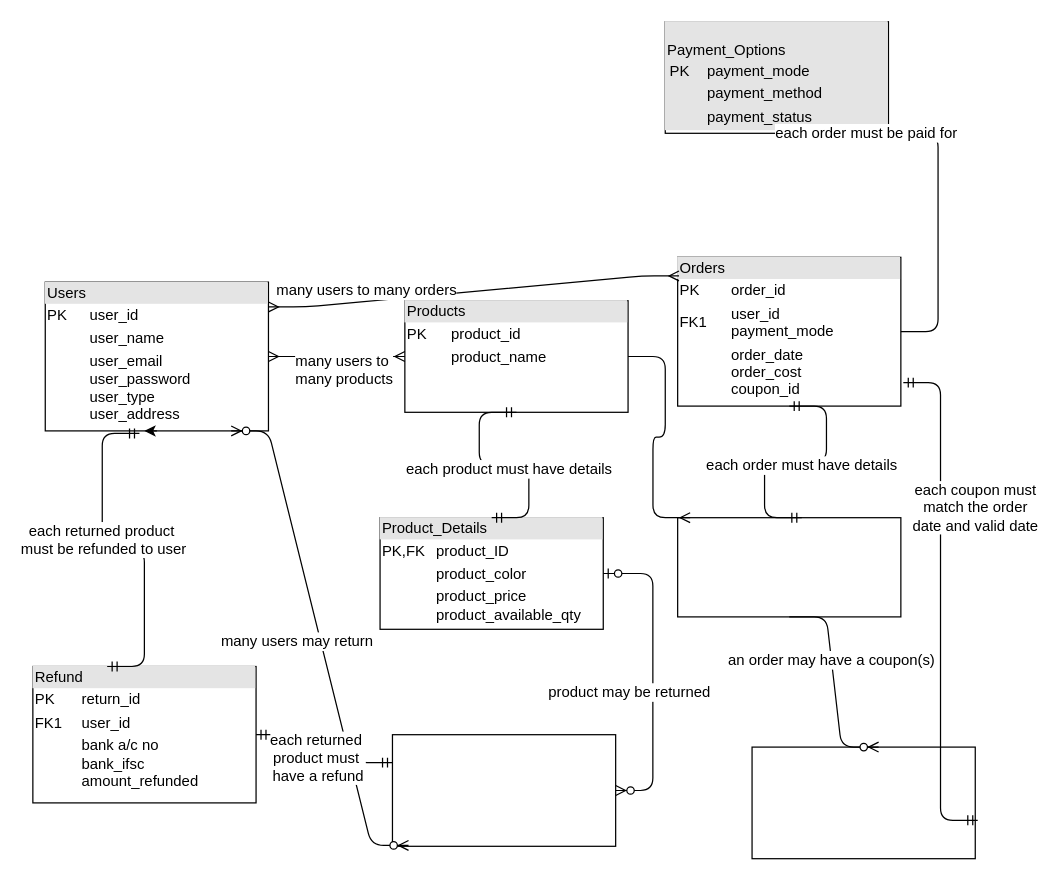
The diagram is 1060 pixels wide and 880 high, and some of its shapes have lost their labels. Here are the shapes that lost their labels. From the top down, the centre of each, then its label:
At (788,566): "Order_Details PK order_id FK1 product_id product_qty".
At (503,789): "Return_Product PK return_id FK1 user_id order_id product_id".
At (863,802): "Discounts PK coupon_id coupon_amount coupon_validity".
